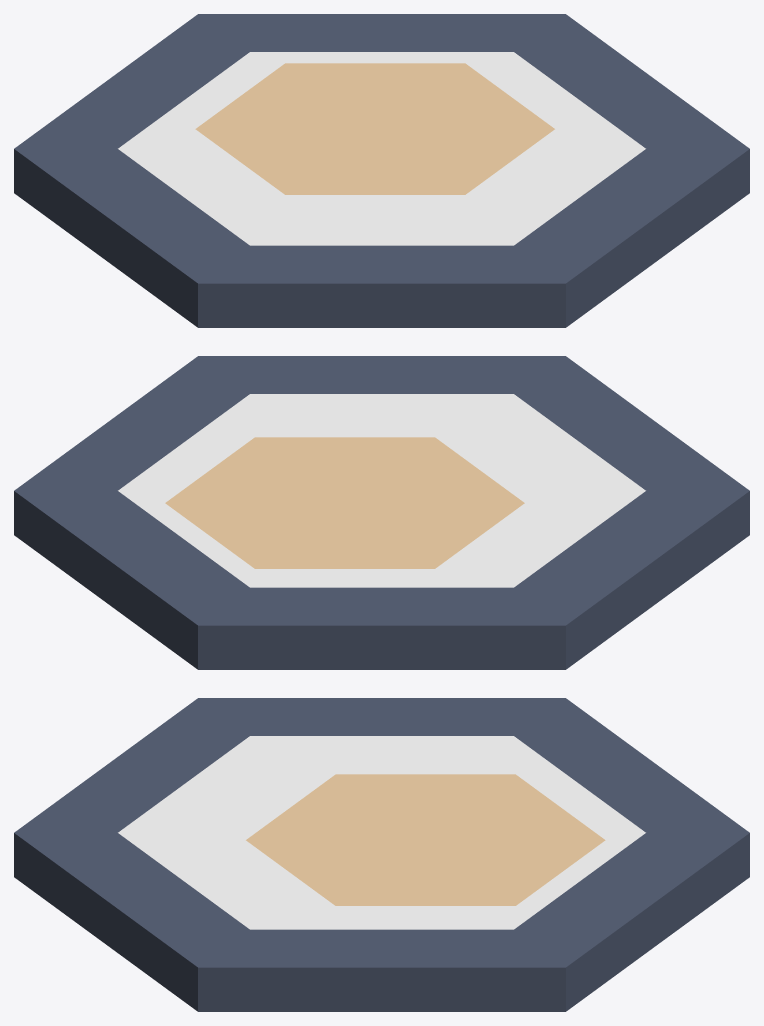
The model's file is platform_blue.fbx.
The picture shows the model from 3 angles, top to bottom: view 1: azimuth 30°, elevation 25°; view 2: azimuth 150°, elevation 25°; view 3: azimuth 270°, elevation 25°; orthographic projection.
Parts seen in each view (by area): view 1: Circle; view 2: Circle; view 3: Circle.
Part boxes in pixels (box(x1,y1,x2,y2)): Circle: box(14, 14, 749, 327); Circle: box(14, 356, 749, 669); Circle: box(14, 698, 749, 1011).
Bounding box in the file's own units: 313 × 23.99 × 361.
